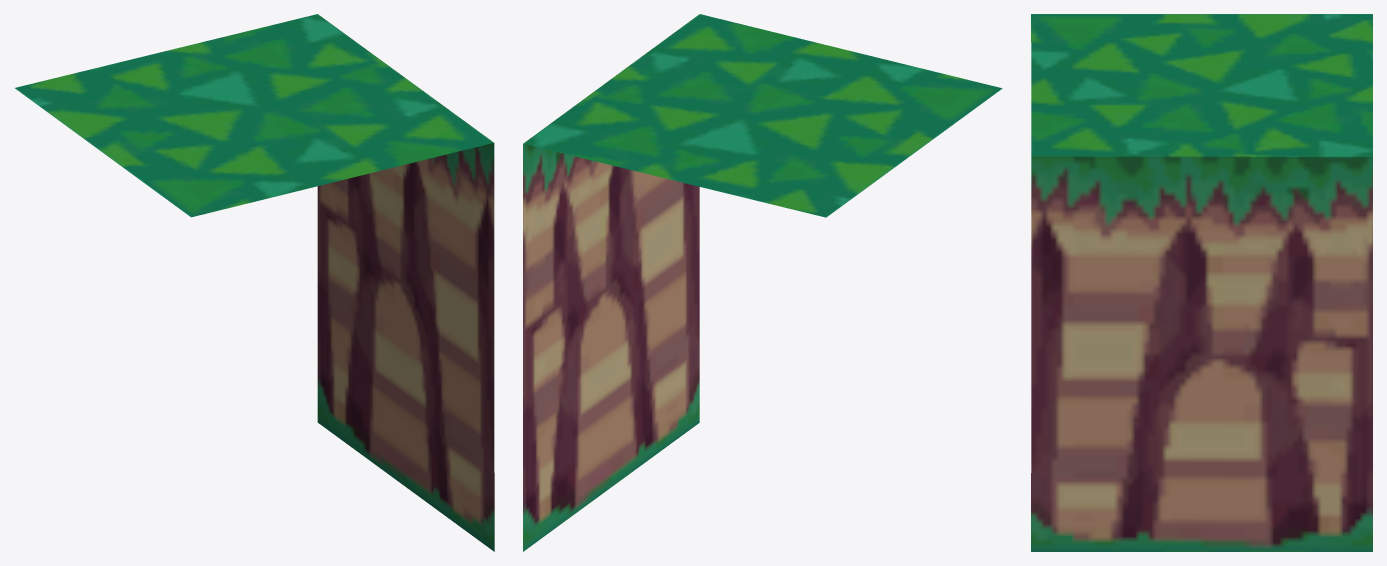
Rendered from Limit_Wall_1sided.fbx.
The picture shows the model from 3 angles, left to right: view 1: azimuth 30°, elevation 25°; view 2: azimuth 150°, elevation 25°; view 3: azimuth 270°, elevation 25°; orthographic projection. The views are drawn at different scales.
Visible parts, largest first — view 1: Cube; view 2: Cube; view 3: Cube.
Part boxes in pixels (x1,y1,x2,y2): Cube: (15, 14, 494, 551); Cube: (523, 14, 1002, 551); Cube: (1031, 14, 1372, 551).
Bounding box in the file's own units: 385 × 496 × 389.
1 material, 1 textured.
